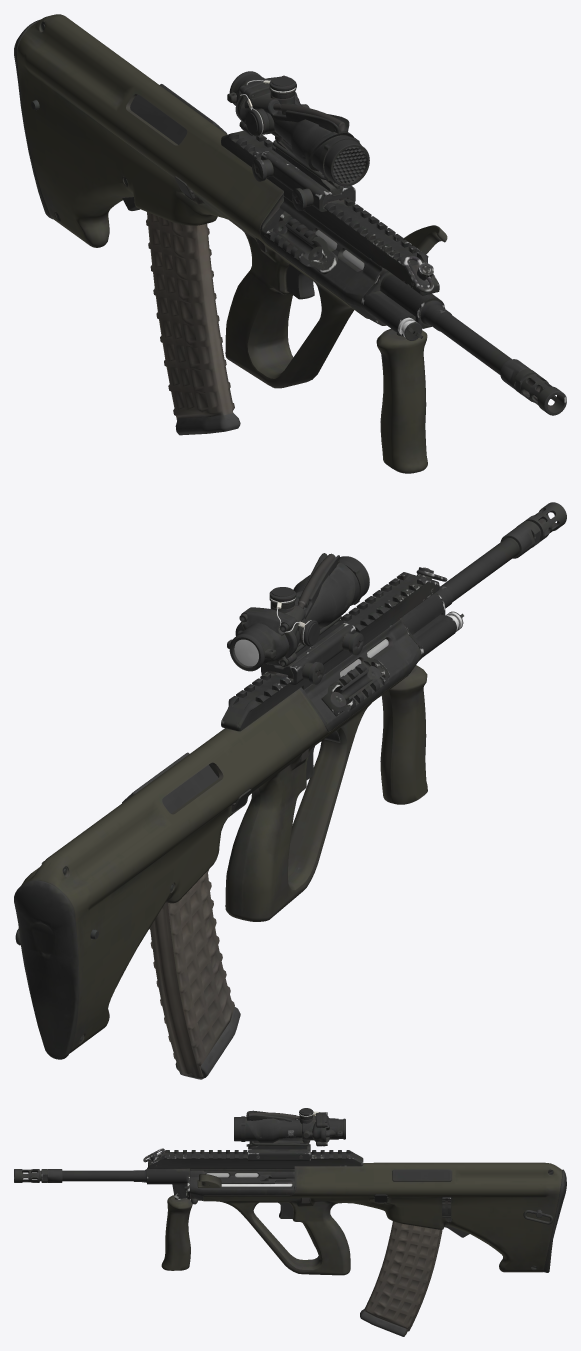
Rendered from aug.glb.
3 renders of one model, top to bottom at view 1: azimuth 30°, elevation 25°; view 2: azimuth 150°, elevation 25°; view 3: azimuth 270°, elevation 25°, orthographic. The views are drawn at different scales.
Visible parts, largest first — view 1: AUG_CS2; view 2: AUG_CS2; view 3: AUG_CS2.
Boxes of the visible parts, left/top/right/bottom form: AUG_CS2: left=14, top=14, right=566, bottom=473; AUG_CS2: left=14, top=502, right=566, bottom=1079; AUG_CS2: left=14, top=1108, right=566, bottom=1336.
Bounding box in the file's own units: 0.0941 × 0.3434 × 0.7693.
Materials: 2 (1 with a texture image).
